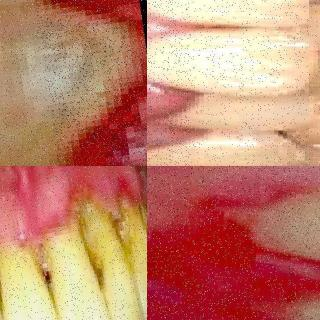Gum Swelling: (157, 172, 320, 319), (0, 174, 73, 239), (80, 166, 146, 209)
calculus: (0, 8, 140, 150), (31, 226, 94, 295), (79, 194, 123, 274), (0, 230, 39, 296), (112, 200, 147, 244), (0, 222, 12, 300)
maligned: (166, 96, 310, 140)
